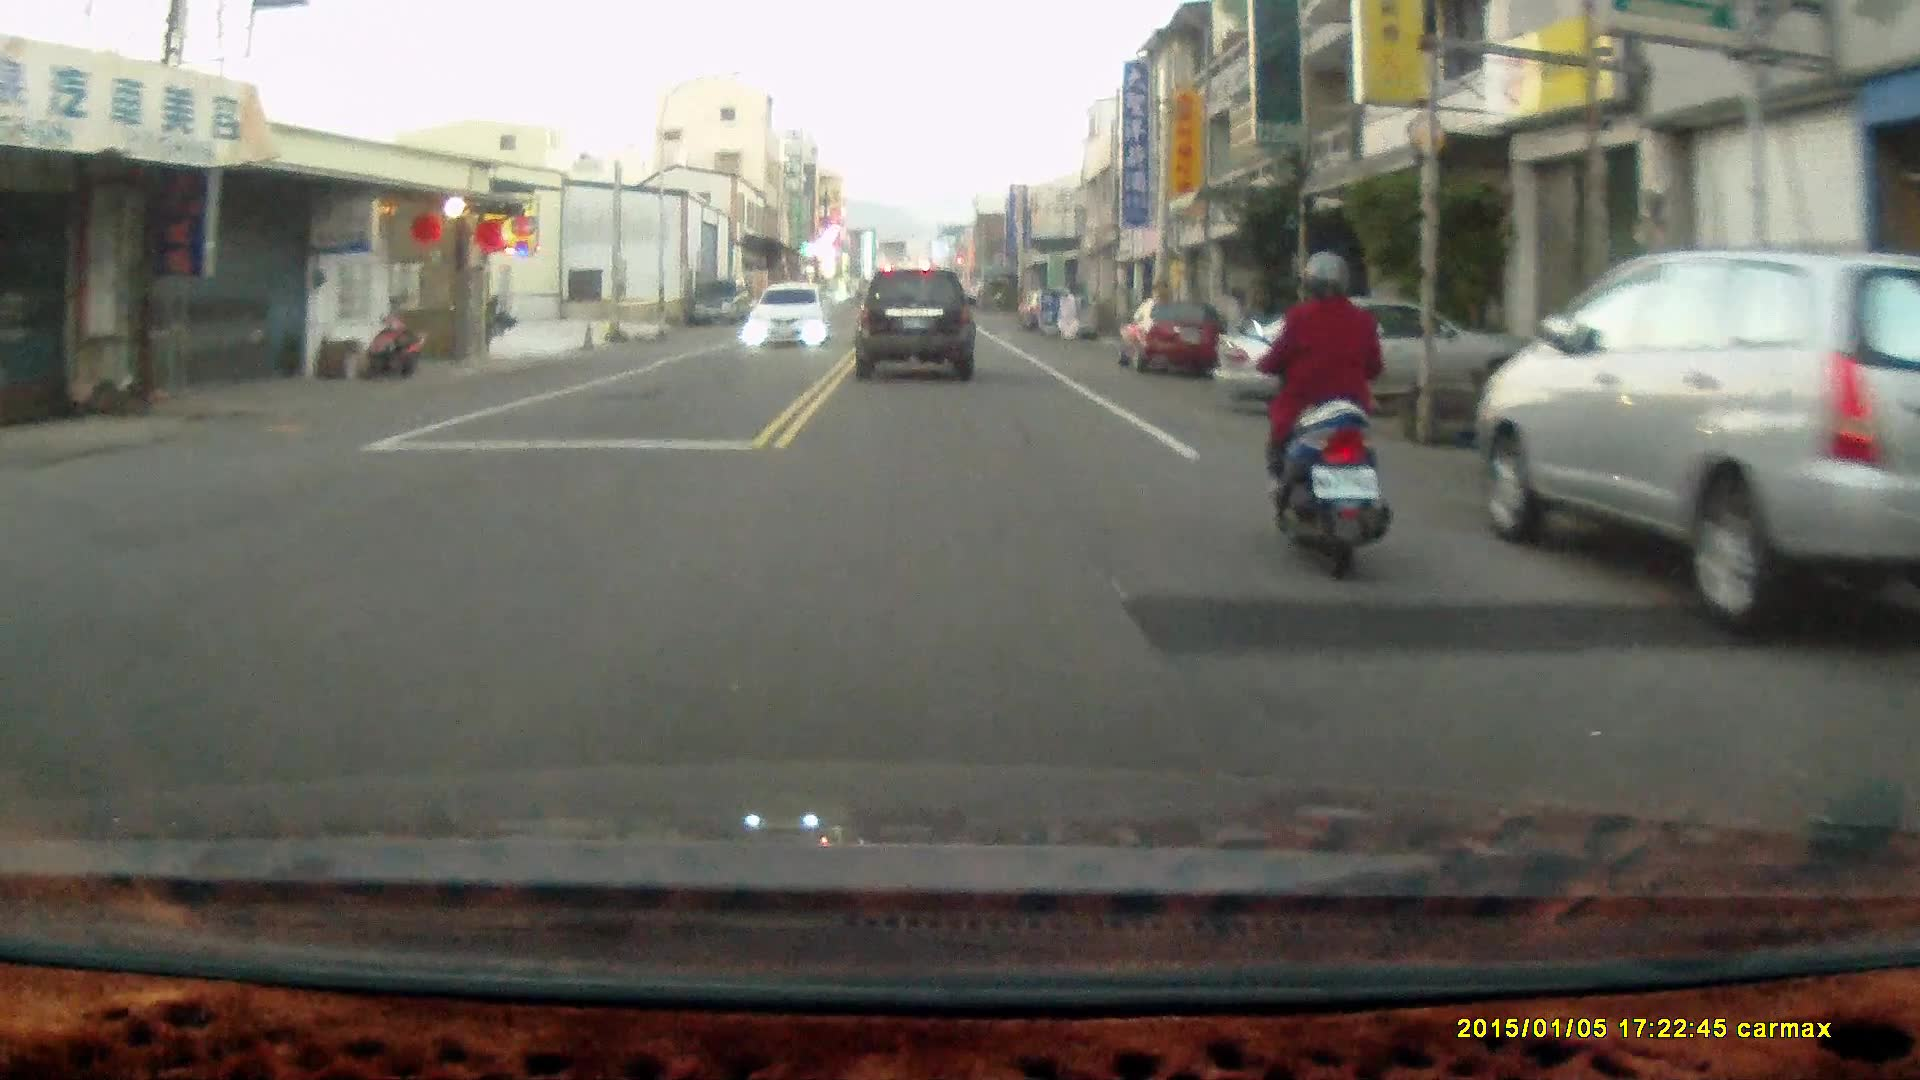rider: (1237, 251, 1397, 577)
vehicle: (1474, 247, 1917, 643), (1217, 299, 1508, 424), (854, 263, 981, 379), (1117, 297, 1232, 373), (745, 281, 834, 347), (691, 279, 752, 327)
